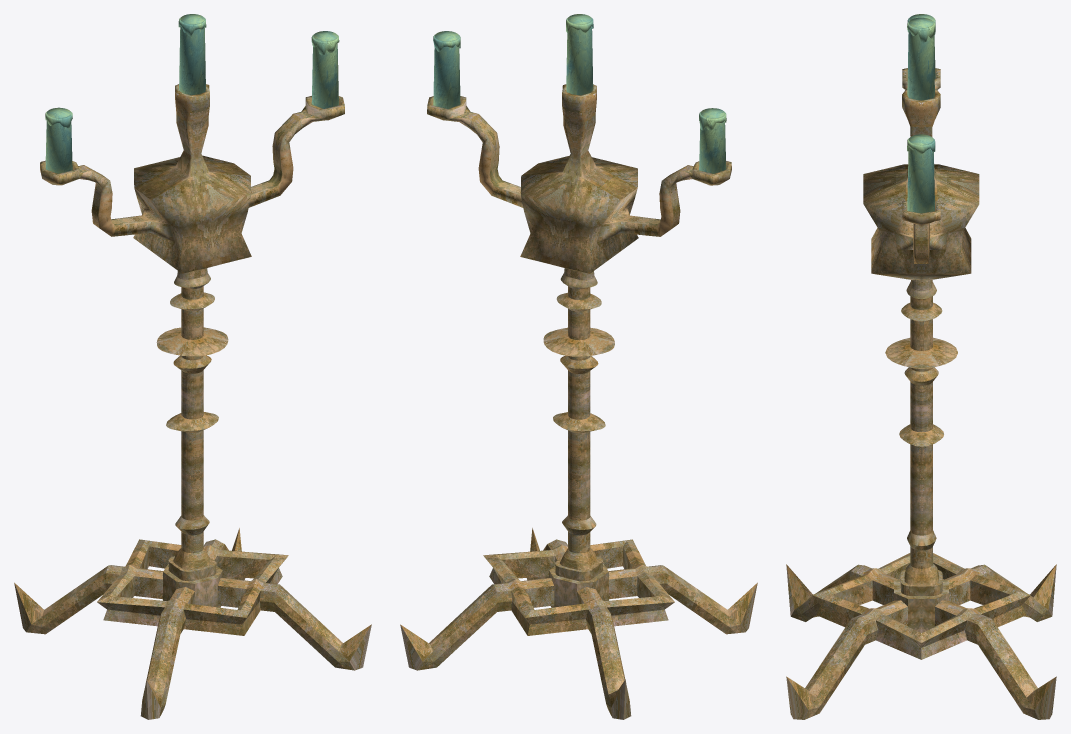
The model's file is candelabra.glb.
The picture shows the model from 3 angles, left to right: view 1: azimuth 30°, elevation 25°; view 2: azimuth 150°, elevation 25°; view 3: azimuth 270°, elevation 25°; orthographic projection. The views are drawn at different scales.
Parts seen in each view (by area): view 1: Cube.001; view 2: Cube.001; view 3: Cube.001.
Boxes of the visible parts, bbox=[...] form: Cube.001: bbox=[14, 14, 371, 719]; Cube.001: bbox=[400, 14, 757, 719]; Cube.001: bbox=[786, 14, 1056, 719].
Size of the model in its own units: 1.56 by 3.12 by 1.19.
Materials: 4 (4 with a texture image).
